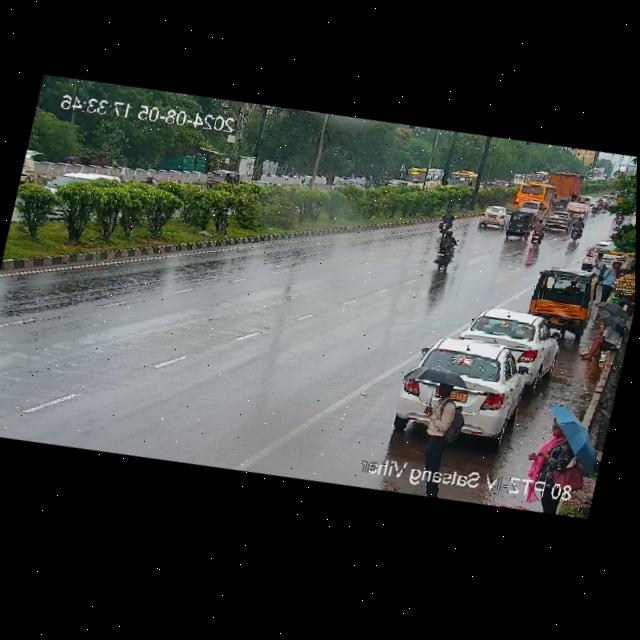bus: (514, 180, 551, 213), (404, 164, 444, 194), (442, 166, 480, 196)
car: (392, 332, 520, 442), (456, 296, 565, 379), (527, 260, 599, 340), (39, 158, 114, 210), (472, 202, 513, 231), (206, 165, 243, 196), (541, 204, 576, 235), (17, 152, 39, 197)
motorcycle: (430, 227, 460, 275), (433, 199, 459, 235), (563, 210, 587, 244), (528, 217, 549, 250)
person: (418, 377, 467, 496), (527, 417, 584, 518), (580, 314, 628, 365), (596, 255, 627, 306)
truck: (548, 170, 581, 199)
